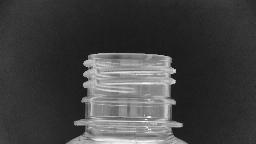No Cap: (68, 47, 186, 131)
